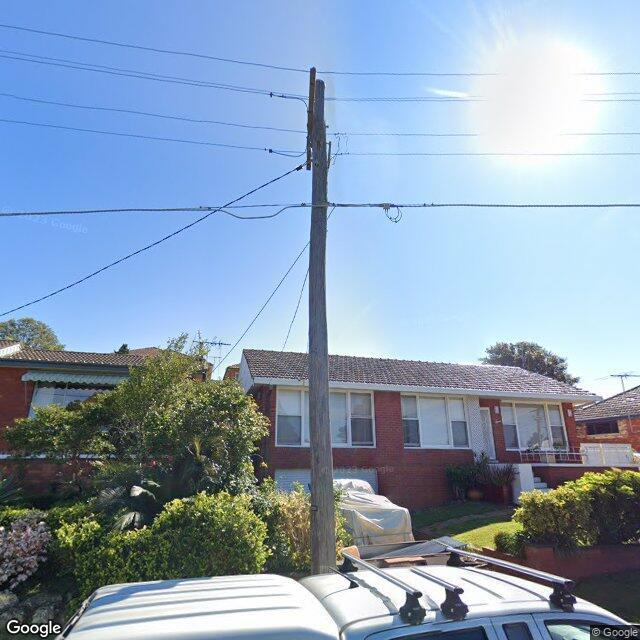crossarm: (306, 66, 318, 170)
timber-pole: (308, 80, 335, 573)
